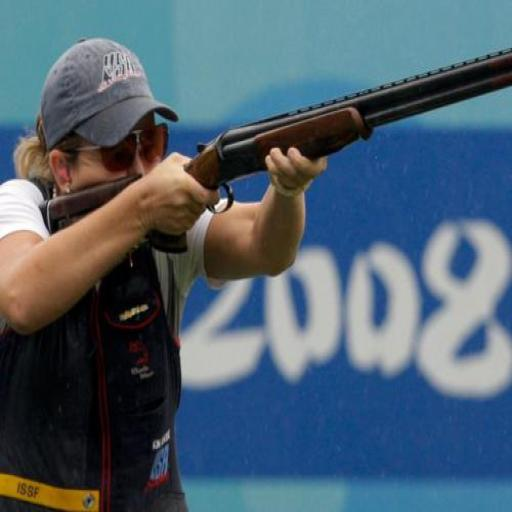shooting: (0, 36, 331, 510)
